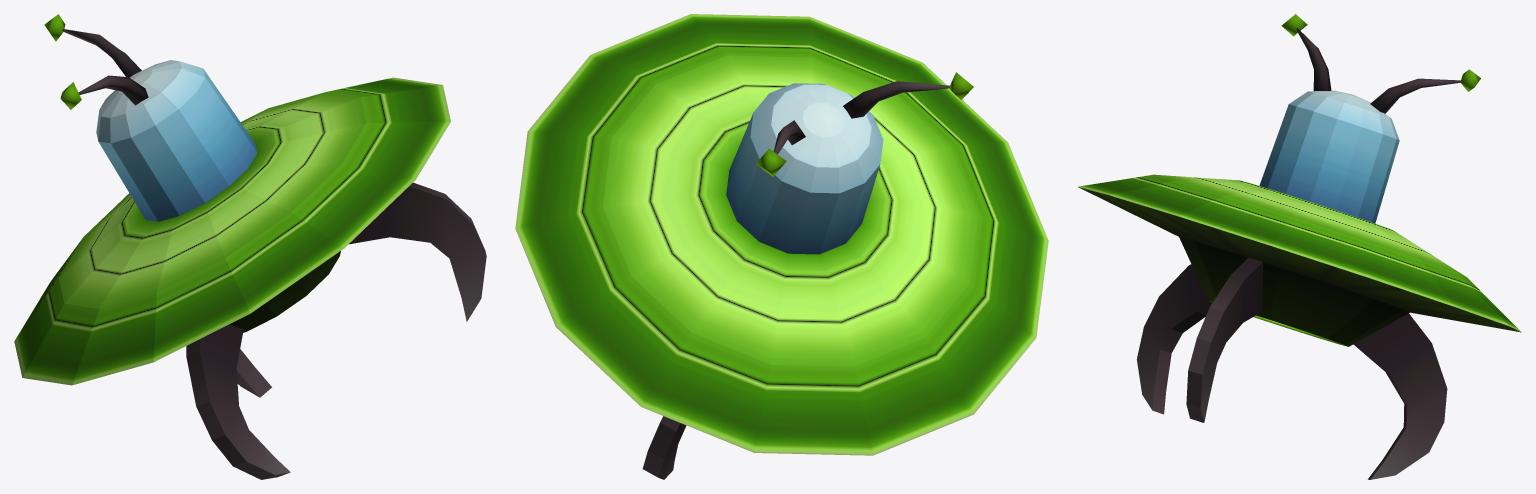
The model's file is unlocker_yutani.glb.
3 views of the same model, side by side, from view 1: azimuth 30°, elevation 25°; view 2: azimuth 150°, elevation 25°; view 3: azimuth 270°, elevation 25° (orthographic). The views are drawn at different scales.
Parts seen in each view (by area): view 1: unlocker_yutani; view 2: unlocker_yutani; view 3: unlocker_yutani.
Part boxes in pixels (bbox=[...]): unlocker_yutani: bbox=[14, 14, 486, 479]; unlocker_yutani: bbox=[515, 14, 1048, 479]; unlocker_yutani: bbox=[1077, 14, 1521, 479].
Bounding box in the file's own units: 7.08 × 6.78 × 7.49.
Materials: 1 (1 with a texture image).
